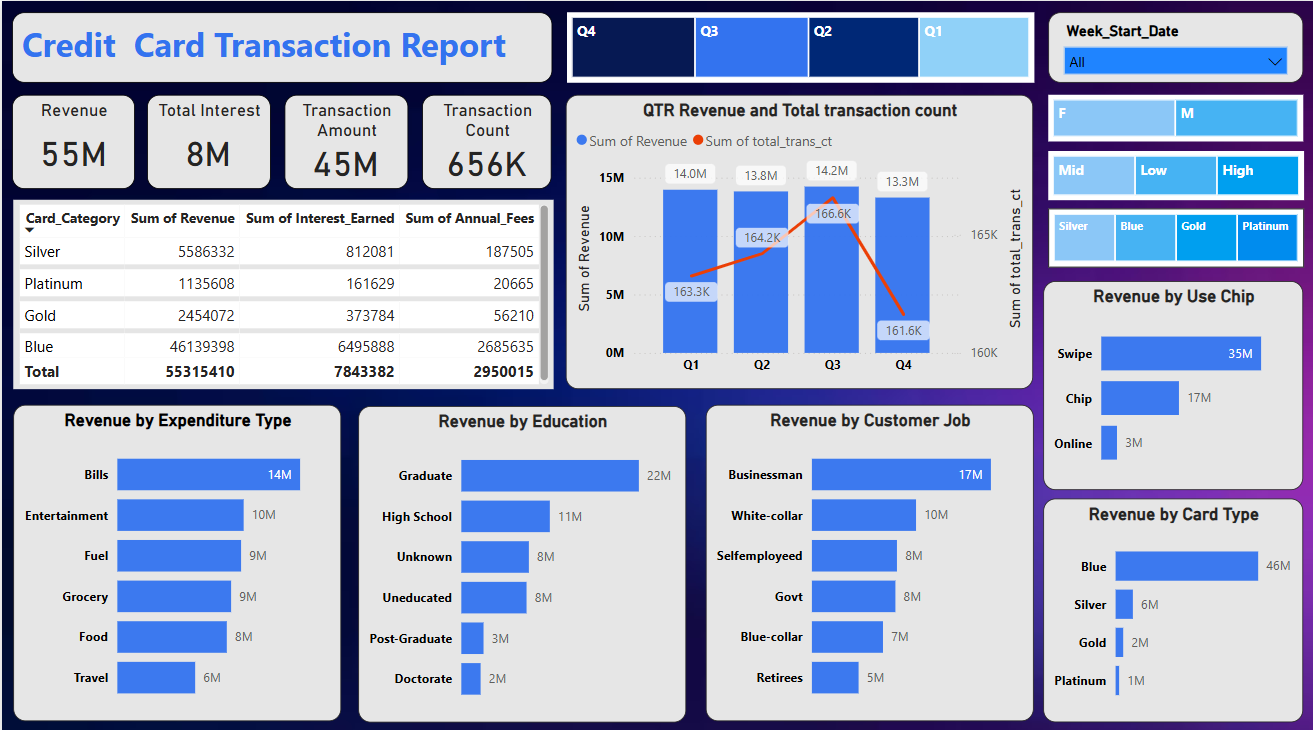

The dashboard page shown, as its layout file describes it:
{"tool":"powerbi","page":{"name":"CC Transaction","canvas":[1280,720],"ordinal":1},"visuals":[{"type":"textbox","box":[9.7,10.9,527.2,68.8],"z":0},{"type":"lineStackedColumnComboChart","title":"QTR Revenue and Total transaction count","fields":{"Category":["credit_card.Qtr"],"Y":["Sum(credit_card.Revenue)"],"Y2":["Sum(credit_card.total_trans_ct)"]},"box":[550.4,91.7,456,287.4],"z":1000},{"type":"barChart","title":"Revenue by Expenditure Type","fields":{"Y":["Sum(credit_card.Revenue)"],"Category":["credit_card.Exp Type"]},"box":[10.8,393.9,320,308.9],"z":2000},{"type":"barChart","title":"Revenue by Education","fields":{"Y":["Sum(credit_card.Revenue)"],"Category":["customer.Education_Level"]},"box":[348.1,395.3,319.7,308.9],"z":3000},{"type":"barChart","title":"Revenue by Customer Job","fields":{"Y":["Sum(credit_card.Revenue)"],"Category":["customer.Customer_Job"]},"box":[686.7,393.9,319.7,308.9],"z":4000},{"type":"barChart","title":"Revenue by Card Type","fields":{"Y":["Sum(credit_card.Revenue)"],"Category":["credit_card.Card_Category"]},"box":[1015.8,485,253.4,218.4],"z":5000},{"type":"barChart","title":"Revenue by Use Chip","fields":{"Y":["Sum(credit_card.Revenue)"],"Category":["credit_card.Use Chip"]},"box":[1015.8,272.7,253.4,203.9],"z":6000},{"type":"tableEx","fields":{"Values":["credit_card.Card_Category","Sum(credit_card.Revenue)","Sum(credit_card.Interest_Earned)","Sum(credit_card.Annual_Fees)"]},"box":[10.8,194.3,527.5,184.8],"z":7000},{"type":"card","title":"Revenue","fields":{"Values":["Sum(credit_card.Revenue)"]},"box":[9.4,91.7,120.1,91.7],"z":8000},{"type":"card","title":"Transaction Amount","fields":{"Values":["Sum(credit_card.total_trans_amt)"]},"box":[275.1,91.7,120.6,91.7],"z":9000},{"type":"card","title":"Total Interest","fields":{"Values":["Sum(credit_card.Interest_Earned)"]},"box":[141.2,91.7,120.6,91.7],"z":10000},{"type":"card","title":"Transaction Count","fields":{"Values":["Sum(credit_card.total_trans_ct)"]},"box":[410.2,91.7,126.7,91.7],"z":11000},{"type":"slicer","fields":{"Values":["credit_card.Week_Start_Date"]},"box":[1020.6,10.9,248.5,68.8],"z":12000},{"type":"treemap","fields":{"Values":["Avg(credit_card.Client_Num)"],"Group":["customer.Gender"]},"box":[1020.6,91.7,248.5,45.8],"z":13000},{"type":"treemap","fields":{"Values":["Avg(credit_card.Client_Num)"],"Group":["credit_card.Card_Category"]},"box":[1020.6,202.7,249.7,57.9],"z":14000},{"type":"treemap","fields":{"Values":["Avg(credit_card.Client_Num)"],"Group":["customer.IncomeGroup"]},"box":[1020.6,146,249.7,48.3],"z":15000},{"type":"treemap","fields":{"Values":["Avg(credit_card.Client_Num)"],"Group":["credit_card.Qtr"]},"box":[551.8,10.8,456,68.8],"z":16000}]}

Visuals, with their boxes in screenshot pixels (x1, y1, x2, y2), scaled from the page's 1280x720 canvas onto the 1313x730 screenshot:
textbox: box=[10, 11, 551, 81]
"QTR Revenue and Total transaction count" lineStackedColumnComboChart: box=[565, 93, 1032, 384]
"Revenue by Expenditure Type" barChart: box=[11, 399, 339, 713]
"Revenue by Education" barChart: box=[357, 401, 685, 714]
"Revenue by Customer Job" barChart: box=[704, 399, 1032, 713]
"Revenue by Card Type" barChart: box=[1042, 492, 1302, 713]
"Revenue by Use Chip" barChart: box=[1042, 276, 1302, 483]
tableEx - credit_card.Card_Category x Sum(credit_card.Revenue): box=[11, 197, 552, 384]
"Revenue" card: box=[10, 93, 133, 186]
"Transaction Amount" card: box=[282, 93, 406, 186]
"Total Interest" card: box=[145, 93, 269, 186]
"Transaction Count" card: box=[421, 93, 551, 186]
slicer - credit_card.Week_Start_Date: box=[1047, 11, 1302, 81]
treemap - Avg(credit_card.Client_Num) x customer.Gender: box=[1047, 93, 1302, 139]
treemap - Avg(credit_card.Client_Num) x credit_card.Card_Category: box=[1047, 206, 1303, 264]
treemap - Avg(credit_card.Client_Num) x customer.IncomeGroup: box=[1047, 148, 1303, 197]
treemap - Avg(credit_card.Client_Num) x credit_card.Qtr: box=[566, 11, 1034, 81]
